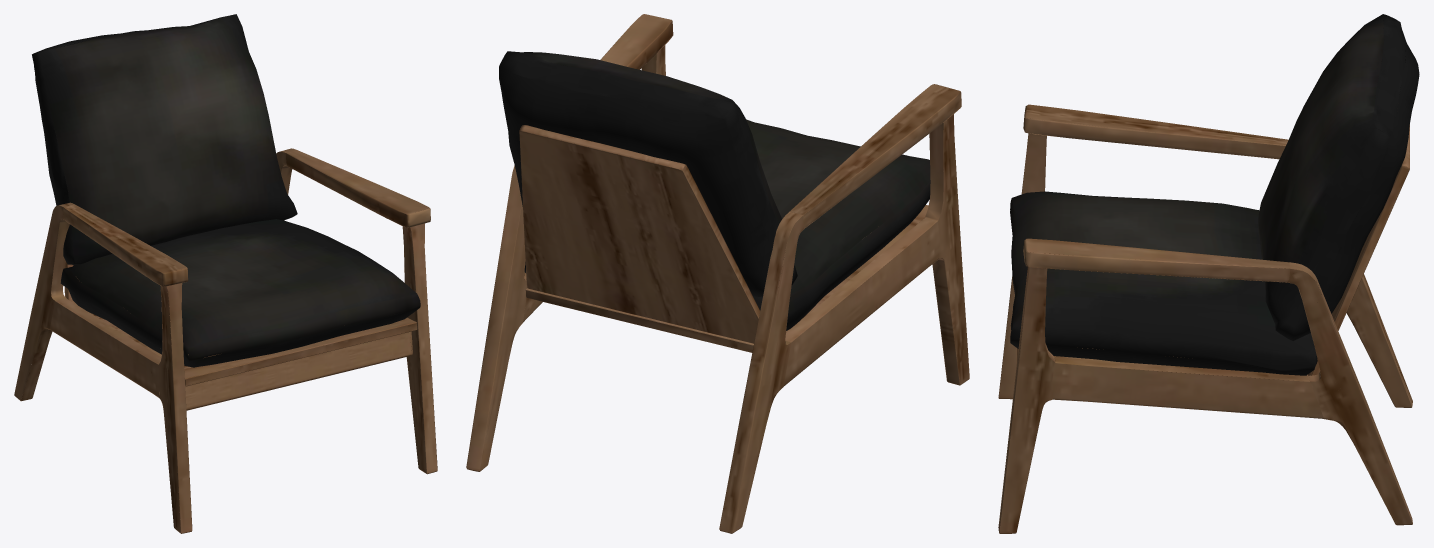
The model's file is armchair.glb.
3 views of the same model, side by side, from view 1: azimuth 30°, elevation 25°; view 2: azimuth 150°, elevation 25°; view 3: azimuth 270°, elevation 25° (orthographic). The views are drawn at different scales.
Visible parts, largest first — view 1: modern_arm_chair_01; view 2: modern_arm_chair_01; view 3: modern_arm_chair_01.
Boxes of the visible parts, x1=… form: modern_arm_chair_01: x1=14, y1=14, x2=437, y2=533; modern_arm_chair_01: x1=466, y1=14, x2=969, y2=533; modern_arm_chair_01: x1=998, y1=14, x2=1419, y2=533.
Size of the model in its own units: 0.8204 by 1.02 by 0.9873.
Materials: 2 (2 with a texture image).
